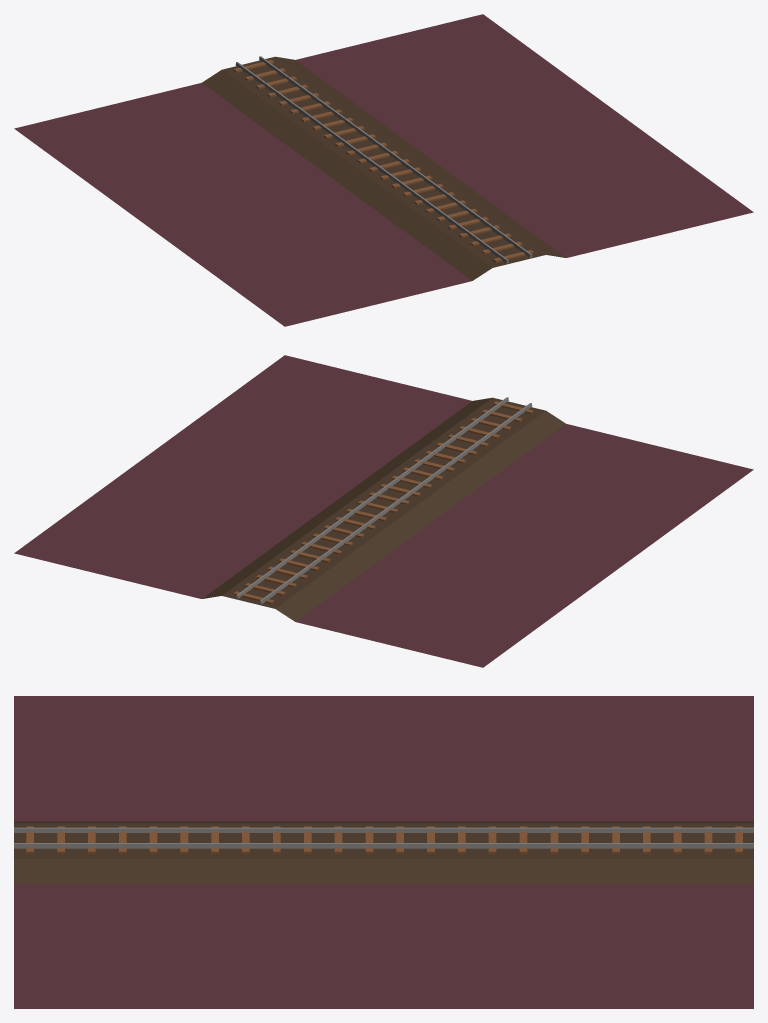
File: tile-rail-straight-nb.fbx
The picture shows the model from 3 angles, top to bottom: view 1: azimuth 30°, elevation 25°; view 2: azimuth 150°, elevation 25°; view 3: azimuth 270°, elevation 25°; orthographic projection. The views are drawn at different scales.
Visible parts, largest first — view 1: tile-rail-straight-nb; view 2: tile-rail-straight-nb; view 3: tile-rail-straight-nb.
Part boxes in pixels (x1,y1,x2,y2): tile-rail-straight-nb: (14,14,753,326); tile-rail-straight-nb: (14,355,753,667); tile-rail-straight-nb: (14,696,753,1008).
Bounding box in the file's own units: 30 × 0.7458 × 30.
